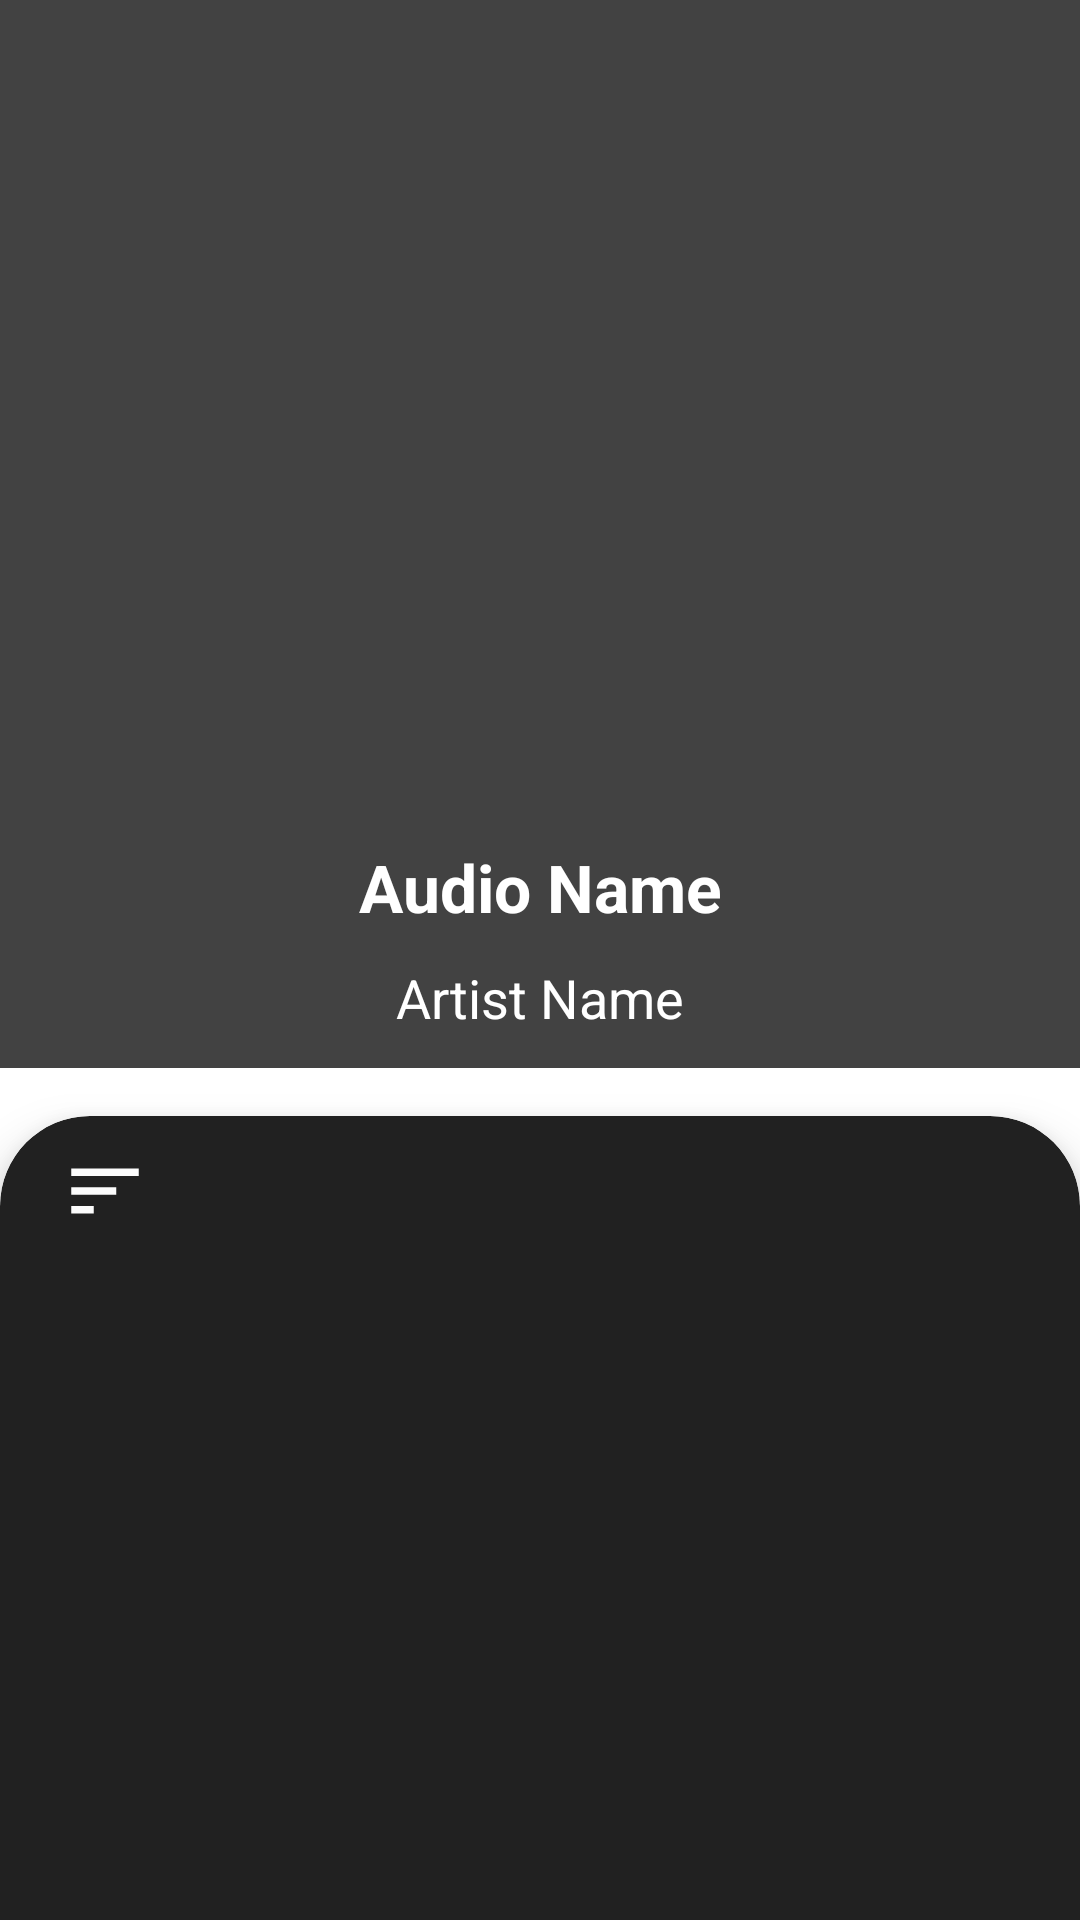

Screen size 1080 x 1920. Icon name, then its box in pixels as box=[x1, y1, x2, y2]:
sort: box=[71, 1168, 139, 1214]
